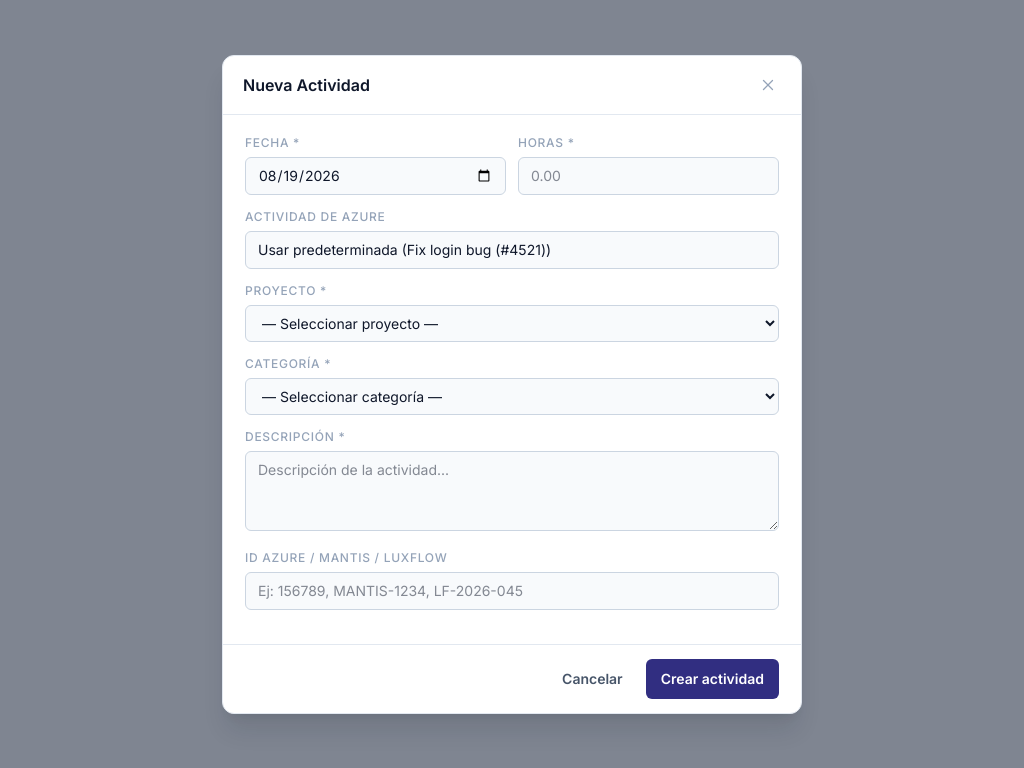
NewActivityModal project/category autofill › blanks a previously autofilled project/category when switching to a work item that maps neither
This screenshot has width=1024, height=768.
Step 1. Click the dropdown named "Actividad de Azure" → (512, 250), box [245,230,779,268]
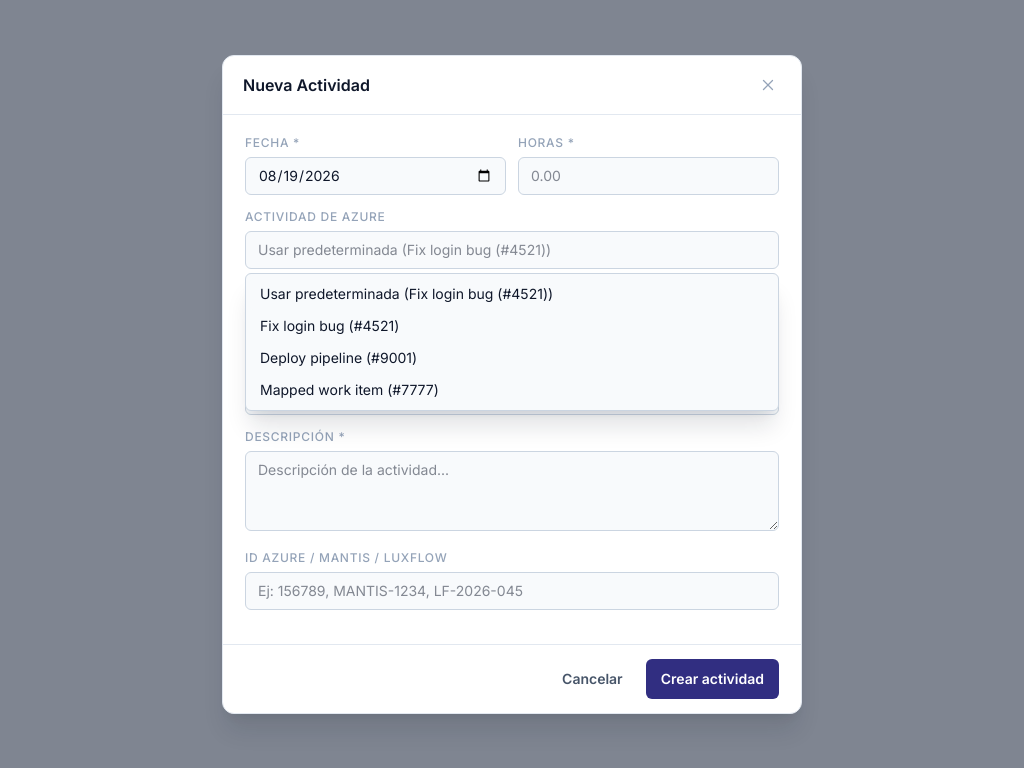
Step 2. Click the option "Mapped work item (#7777)" → (349, 389), box [260,380,439,398]
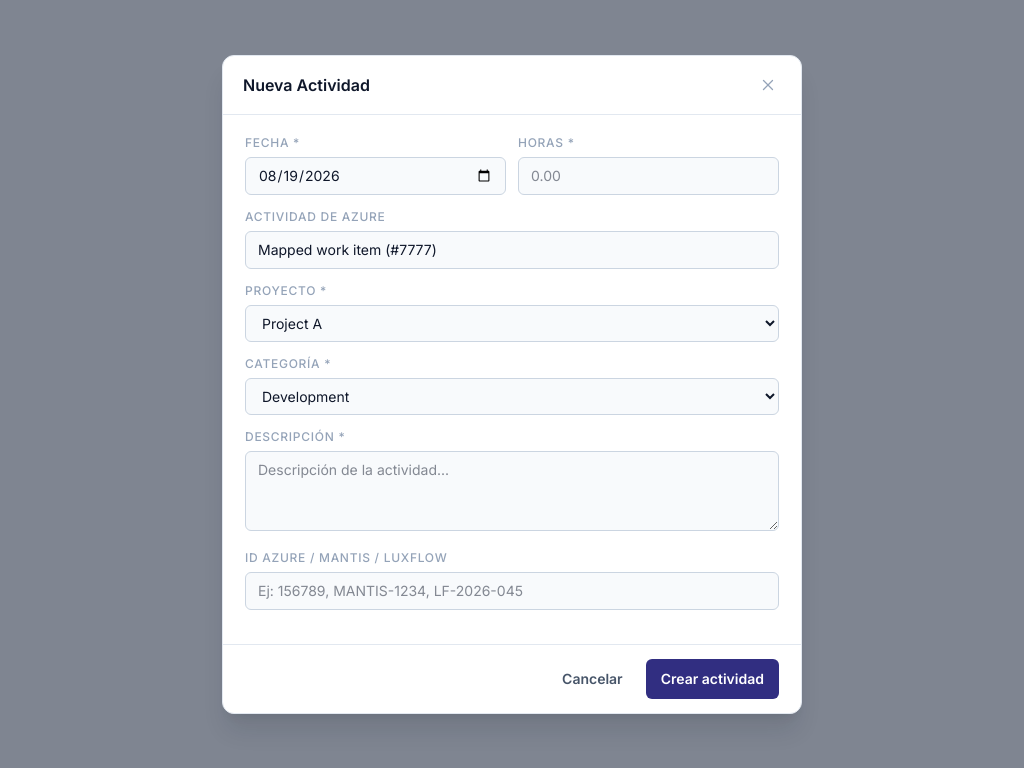
Result: the dropdown named "Proyecto *" shows "Project A" at [245,304,779,342]
Result: the dropdown named "Categoría *" shows "Development" at [245,378,779,414]
Step 3. Click the dropdown named "Actividad de Azure" → (512, 250), box [245,230,779,268]
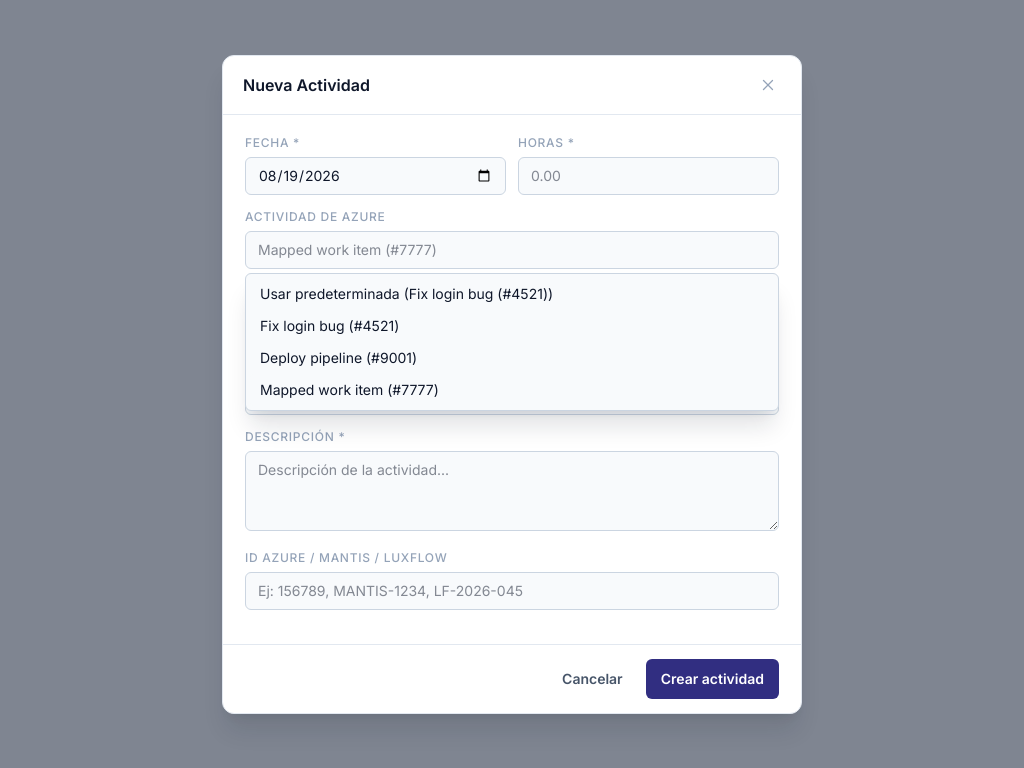
Step 4. Click the option "Fix login bug (#4521)" → (330, 325), box [260,316,399,334]
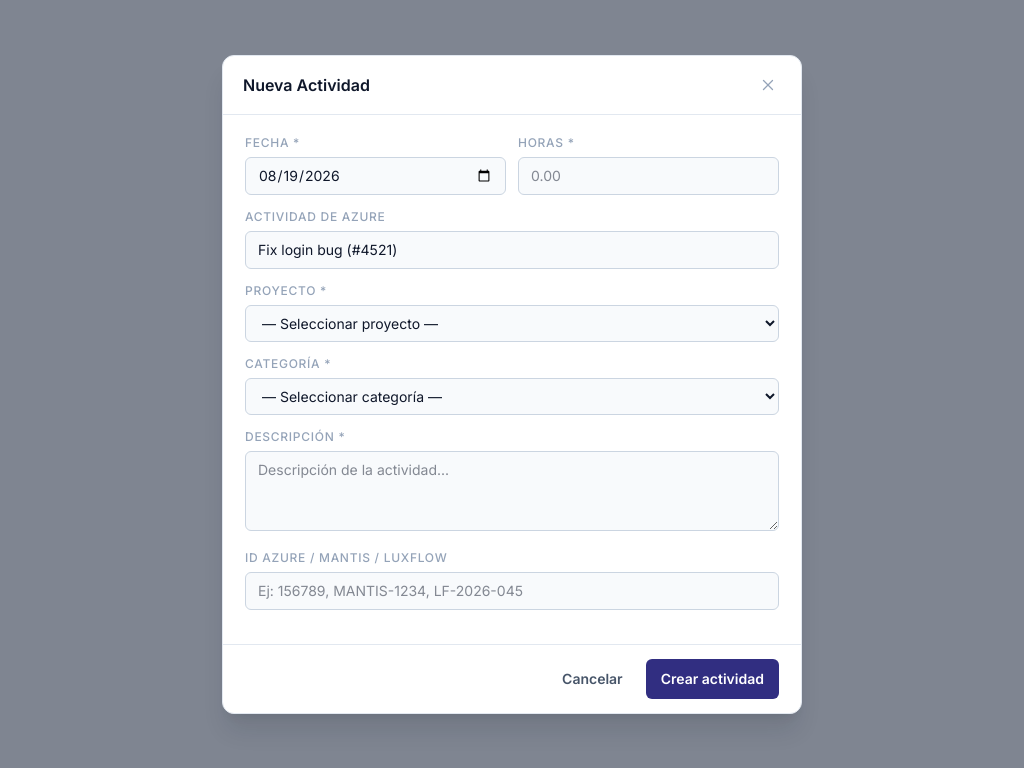
Result: the dropdown named "Proyecto *" shows "— Seleccionar proyecto —" at [245,304,779,342]
Result: the dropdown named "Categoría *" shows "— Seleccionar categoría —" at [245,378,779,414]
